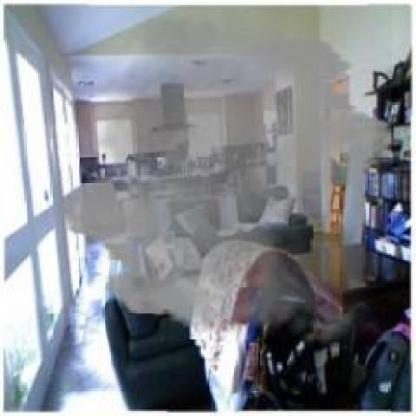Smoke: (52, 5, 406, 357)
